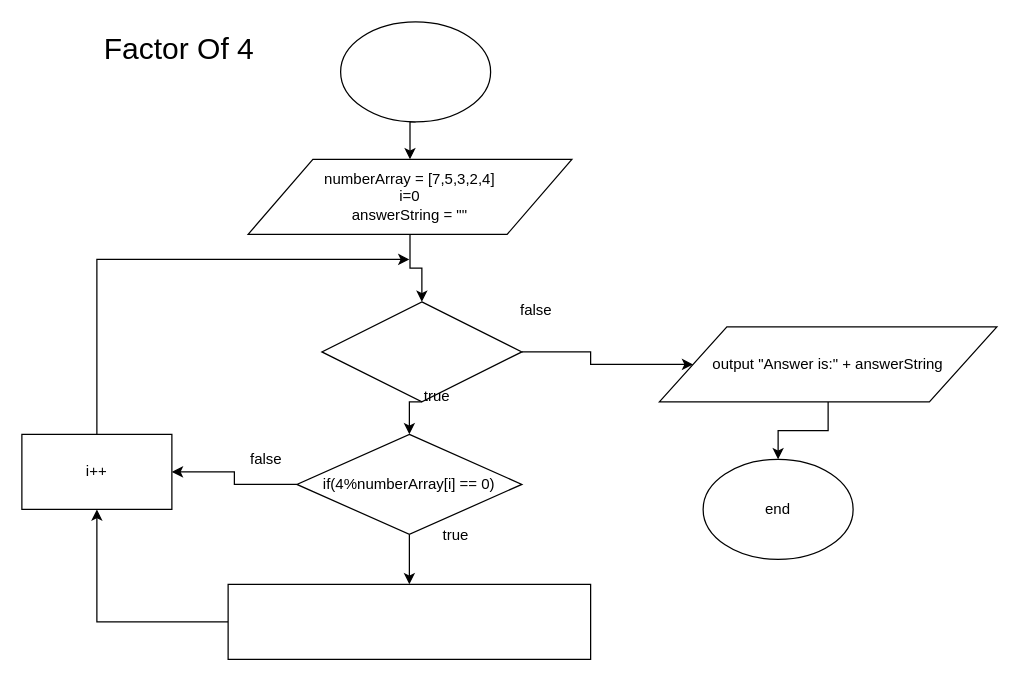
Image size: 1019x681. Some labels were removed from this diagram. The box of each missing label's shape, as (x1, y1, x2, y2) in pixels:
answerString + numberArray[i] +" ": (227, 583, 591, 659)
if(i<numberArray.length): (321, 301, 522, 402)
start: (339, 21, 491, 122)
